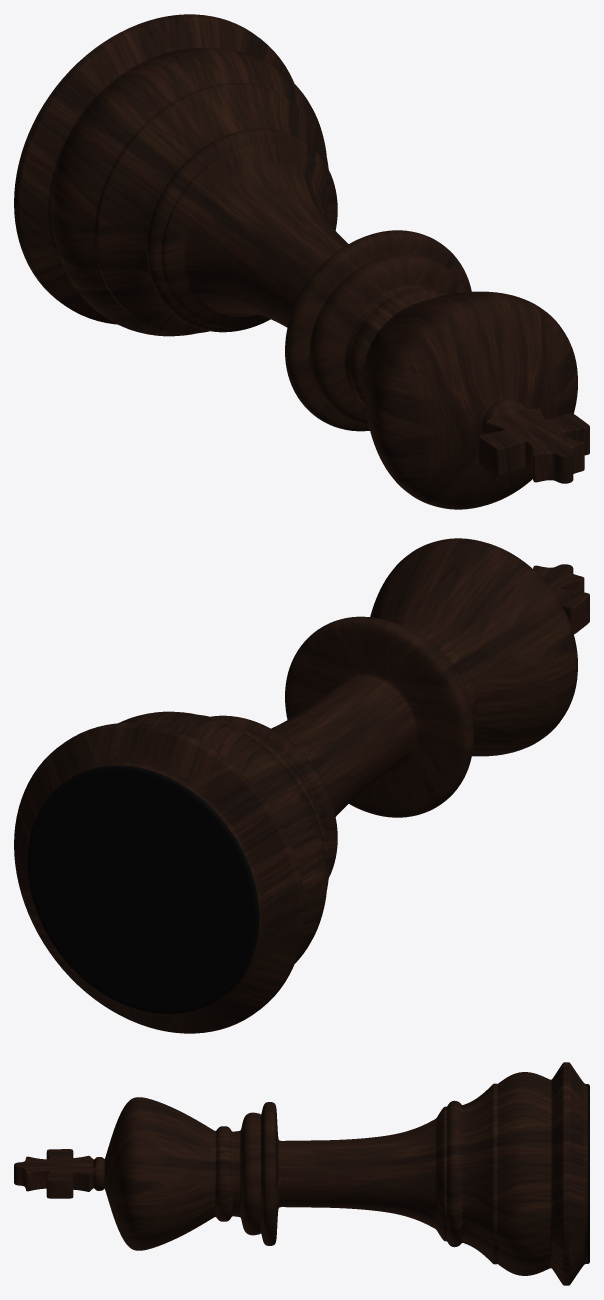
File: king.glb
The picture shows the model from 3 angles, top to bottom: view 1: azimuth 30°, elevation 25°; view 2: azimuth 150°, elevation 25°; view 3: azimuth 270°, elevation 25°; orthographic projection. The views are drawn at different scales.
Visible parts, largest first — view 1: Node1; view 2: Node1; view 3: Node1.
Boxes of the visible parts, x1,y1,x2,y2 form: Node1: (14, 14, 589, 509); Node1: (14, 538, 589, 1033); Node1: (14, 1062, 589, 1285).
Bounding box in the file's own units: 4.46 × 4.46 × 11.5.
Materials: 1 (1 with a texture image).
